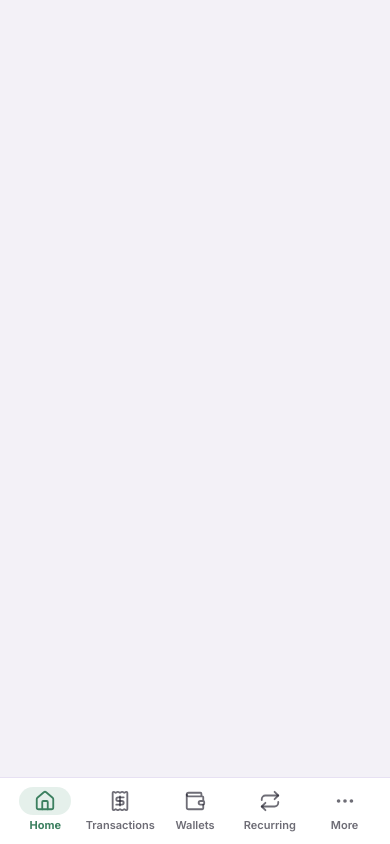
it: BottomNav › opens a More sheet with Category, Reports and Account
The width and height of the screenshot is (390, 844).
Click the button "More".
click(345, 810)  # box [307, 784, 382, 836]
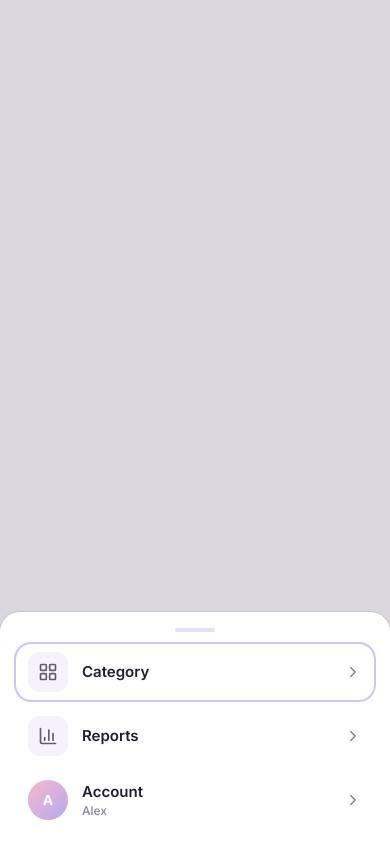
Expected: the text "Alex" is shown, [82, 803, 107, 818]
